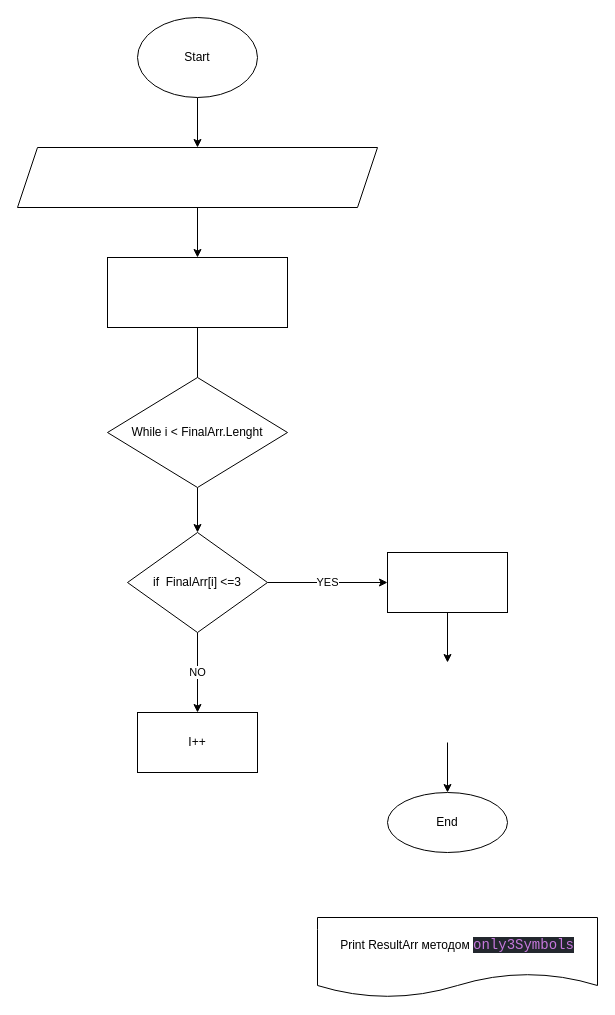
Image size: 615x1015. Some labels were removed from this diagram. Each missing label, with the centre of its shape:
add FinalArr[i] to ResultArr: (447,582)
ввод элементов string пользователем через запятую i = 0: (197,177)
преобразование строки (UserArr) в массив(FinalArr) c индексами разделенными ",": (197,292)
